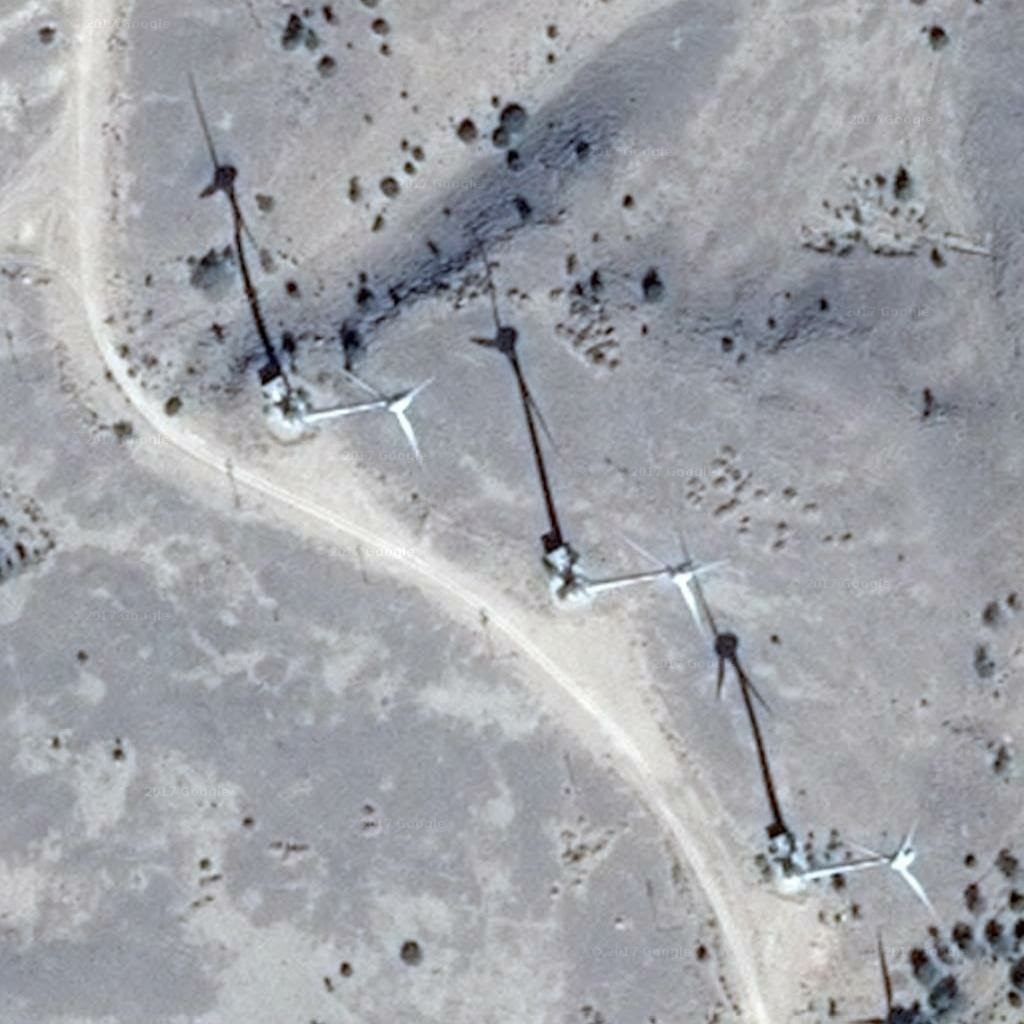Windmill: (458, 252, 581, 568)
